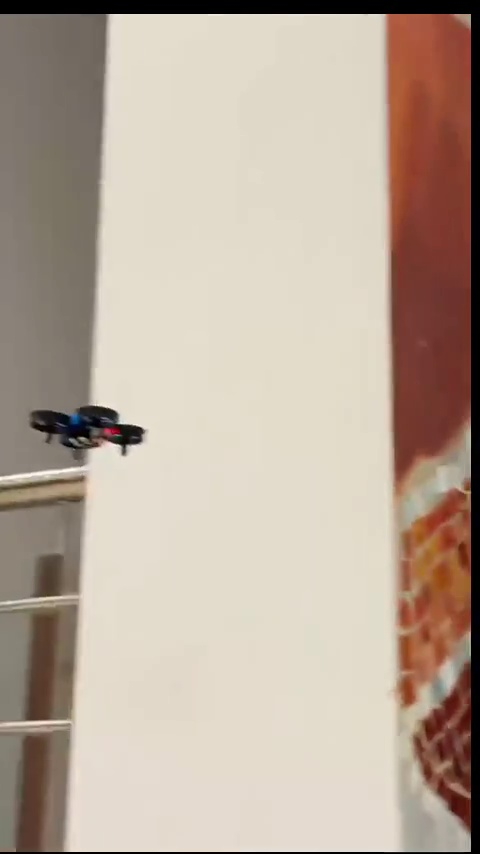drone: (33, 403, 145, 458)
